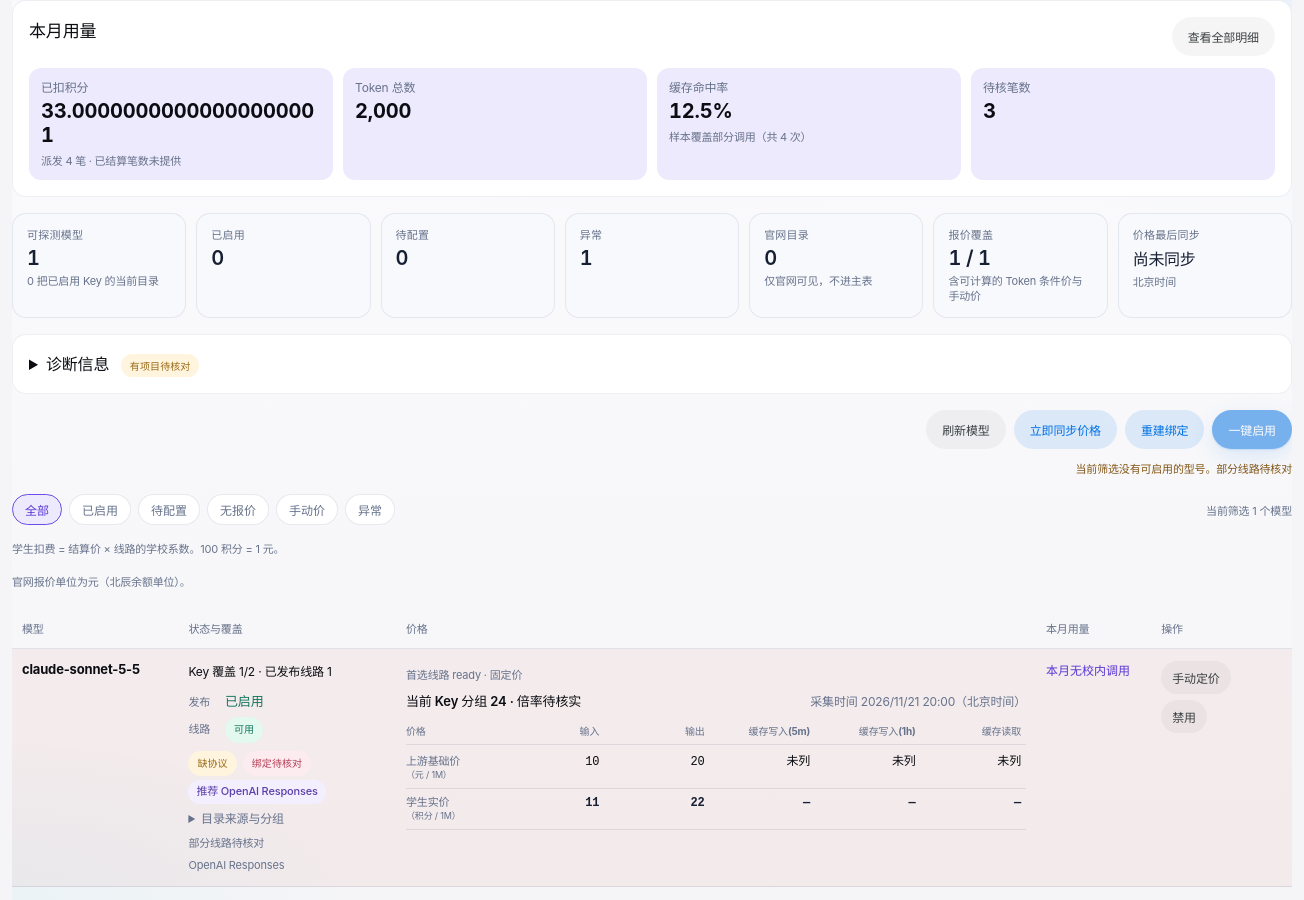
Test case: 北辰模型管理 › 优先显示实际发布 Key 的价格，另一个有分组的候选 Key 不参与
Expected: the element with class "model-state-summary" reads "Key 覆盖 1/2 · 已发布线路 1", [188,664,332,678]
Expected: the element with class "current-group-prices" shows "当前 Key 分组 24", [406,693,581,709]
Click the button "已启用": (100, 510) [69,494,131,525]
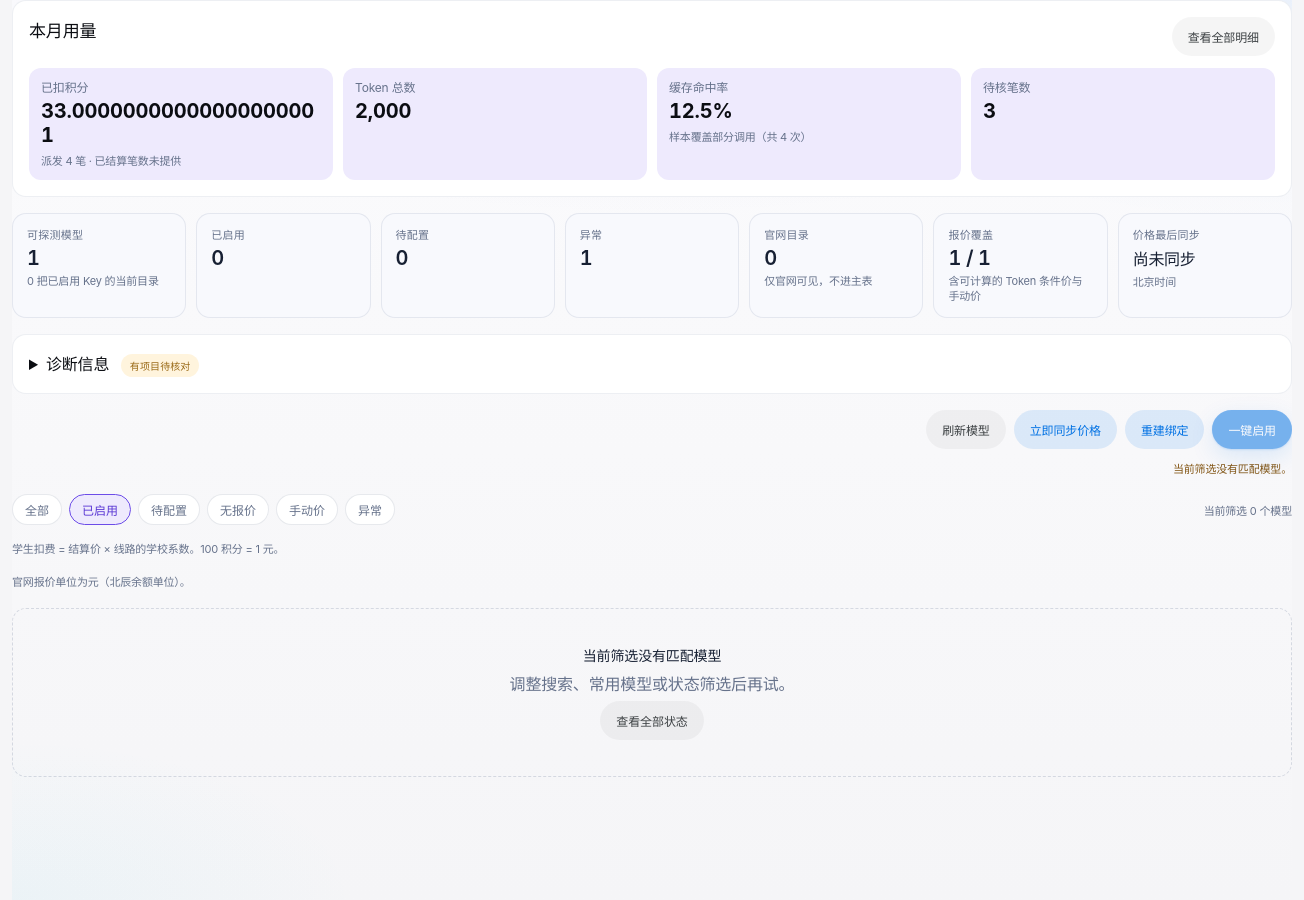
Click the button "异常": (370, 510) [345,494,395,525]
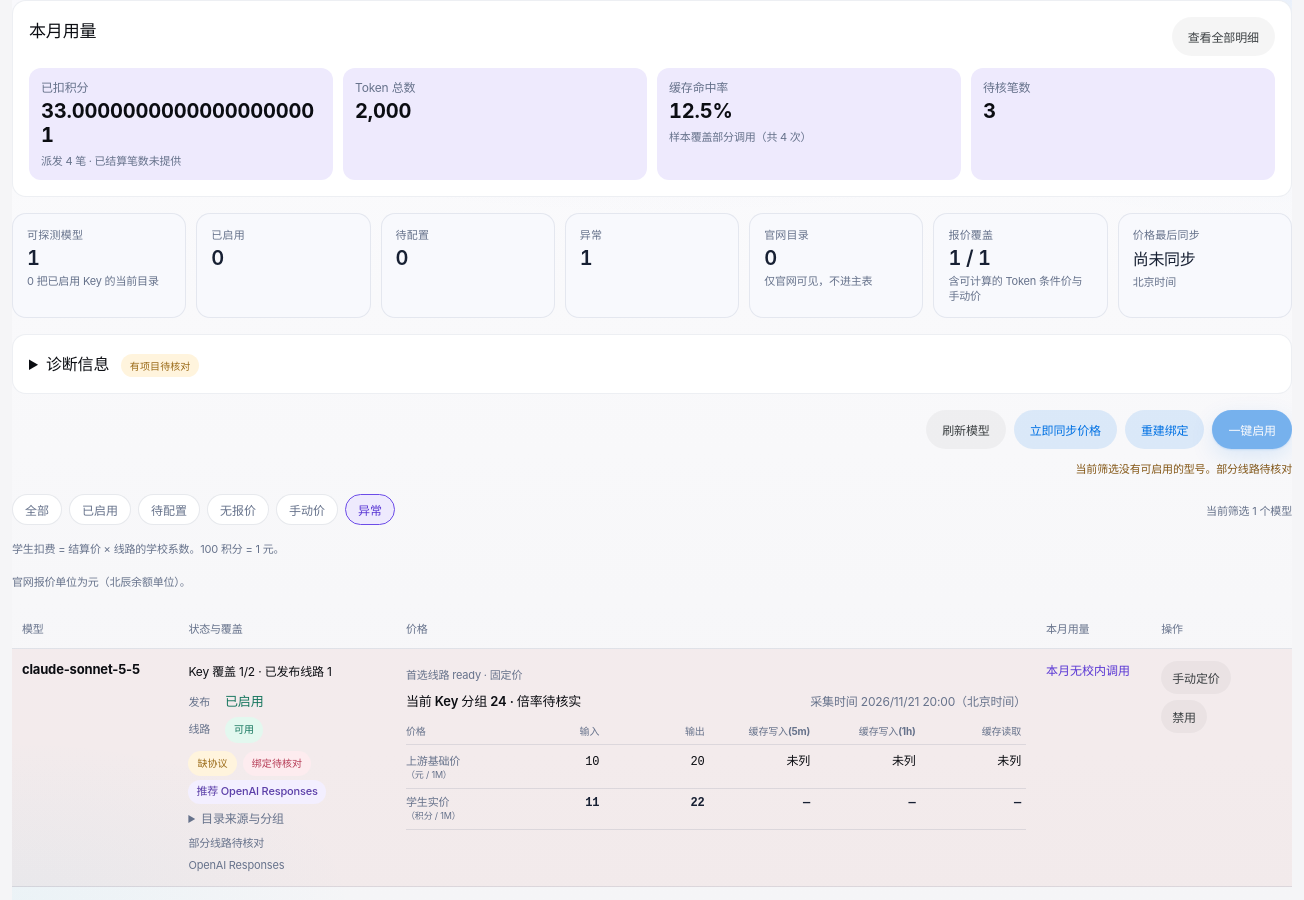
Expected: the row that starts with "claude-sonnet-5-5" shows "部分线路待核对", [188,836,264,850]
